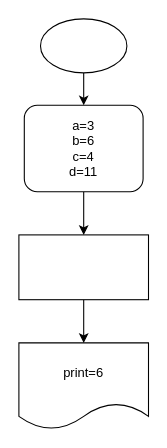
This 167x448 diagram has some shape labels left out. Here are the shapes that lost their labels. From the top down, the centre of each, then its label:
the point at 83,45: старт
the point at 83,267: print=(a+b+c+d)/4
